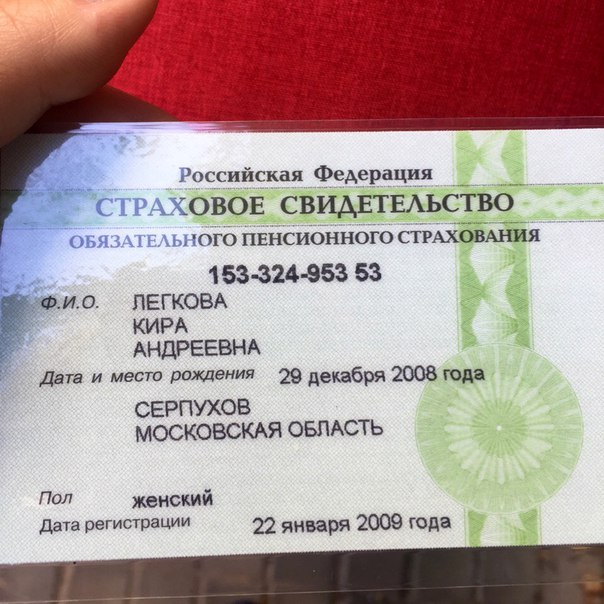text: (132, 391, 392, 444), (206, 256, 381, 289), (249, 511, 460, 537), (278, 361, 489, 386), (131, 336, 263, 362), (130, 288, 230, 312), (126, 488, 217, 512), (127, 313, 192, 336)
